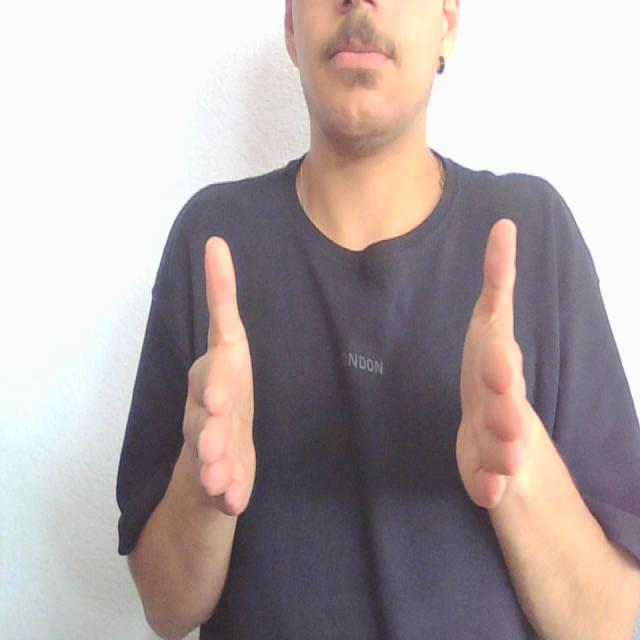Nasil: (166, 204, 550, 527)
